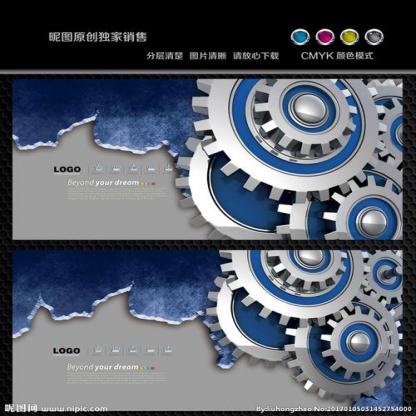FOD: (191, 54, 394, 206), (246, 72, 363, 159), (315, 302, 394, 382)
